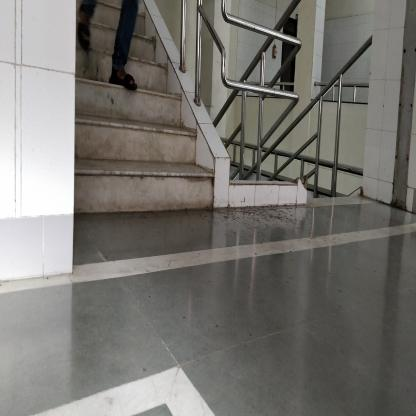stairs: (87, 101, 188, 224)
